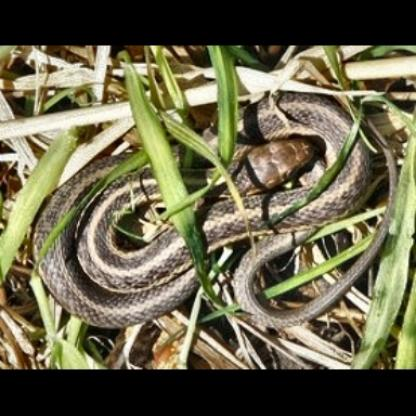Snake: (26, 94, 402, 339)
